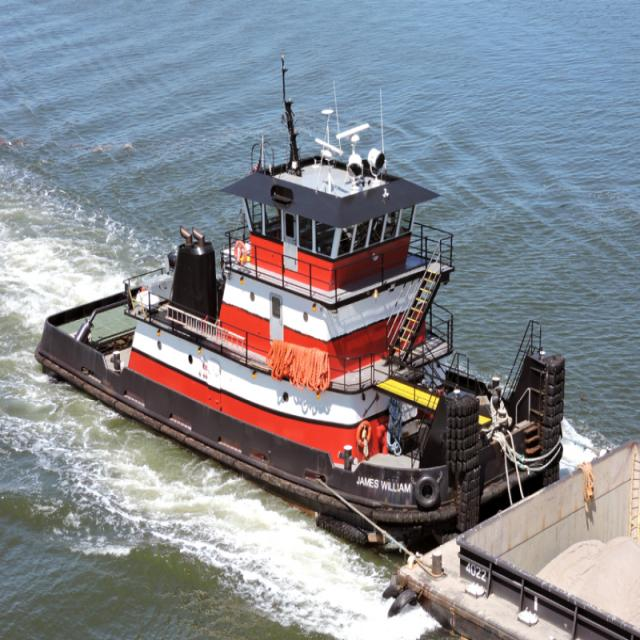tugboat: (32, 99, 569, 563)
